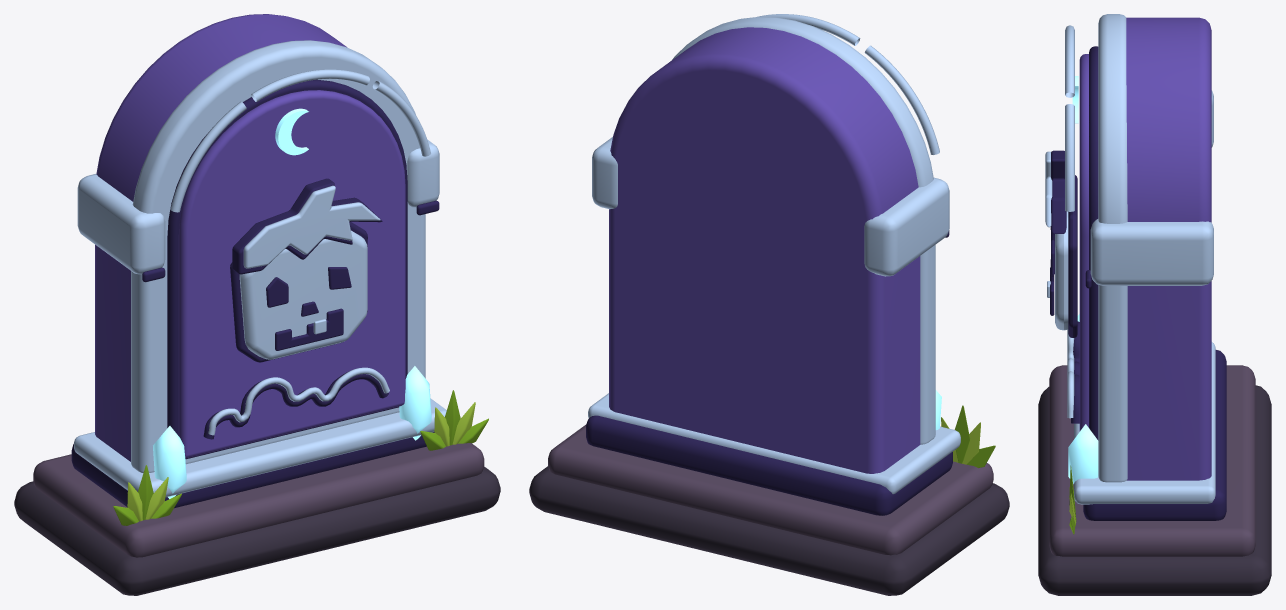
File: Grave_Lunar.glb
The picture shows the model from 3 angles, left to right: view 1: azimuth 30°, elevation 25°; view 2: azimuth 150°, elevation 25°; view 3: azimuth 270°, elevation 25°; orthographic projection.
Visible parts, largest first — view 1: Headstone / inset front panel.004, Headstone / raised outer border.004, Base / lower basalt.004, Headstone / solid arched body.004, Base / bevelled upper step.004, Emblem / raised zombie face.004, Foot / highlight lip.004, Shoulder / sculpted side block.008, Headstone / recessed outline.004, Emblem / hair highlight.004, Foot / broad material shoe.004, Emblem / messy hair silhouette.004 (+11 smaller); view 2: Headstone / solid arched body.004, Base / lower basalt.004, Base / bevelled upper step.004, Foot / broad material shoe.004, Headstone / raised outer border.004, Shoulder / sculpted side block.008, Foot / highlight lip.004, Shoulder / sculpted side block.009, Crown / curved raised band.014, Crown / curved raised band.013; view 3: Headstone / solid arched body.004, Base / bevelled upper step.004, Base / lower basalt.004, Headstone / raised outer border.004, Shoulder / sculpted side block.009, Foot / broad material shoe.004, Foot / highlight lip.004, Headstone / inset front panel.004, Headstone / recessed outline.004, Emblem / raised zombie face.004, Lunar / crystal.001, Emblem / dark carved silhouette.004 (+6 smaller).
Boxes of the visible parts, <box> form: Headstone / inset front panel.004: <box>178,90,405,458</box>; Headstone / raised outer border.004: <box>131,40,425,472</box>; Base / lower basalt.004: <box>14,466,500,595</box>; Headstone / solid arched body.004: <box>95,14,346,461</box>; Base / bevelled upper step.004: <box>33,443,484,557</box>; Emblem / raised zombie face.004: <box>239,230,367,359</box>; Foot / highlight lip.004: <box>74,398,446,497</box>; Shoulder / sculpted side block.008: <box>77,174,165,274</box>; Headstone / recessed outline.004: <box>167,79,407,459</box>; Emblem / hair highlight.004: <box>243,185,380,268</box>; Foot / broad material shoe.004: <box>71,432,434,508</box>; Emblem / messy hair silhouette.004: <box>232,178,382,274</box>; Headstone / solid arched body.004: <box>609,27,920,473</box>; Base / lower basalt.004: <box>529,466,1009,595</box>; Base / bevelled upper step.004: <box>548,424,993,555</box>; Foot / broad material shoe.004: <box>586,415,952,515</box>; Headstone / raised outer border.004: <box>672,16,935,444</box>; Shoulder / sculpted side block.008: <box>864,177,949,276</box>; Foot / highlight lip.004: <box>588,393,960,494</box>; Shoulder / sculpted side block.009: <box>592,137,617,209</box>; Crown / curved raised band.014: <box>864,45,939,154</box>; Crown / curved raised band.013: <box>757,14,860,45</box>; Headstone / solid arched body.004: <box>1126,17,1211,480</box>; Base / bevelled upper step.004: <box>1049,365,1255,556</box>; Base / lower basalt.004: <box>1038,385,1271,595</box>; Headstone / raised outer border.004: <box>1098,14,1127,482</box>; Shoulder / sculpted side block.009: <box>1090,219,1213,285</box>; Foot / broad material shoe.004: <box>1083,350,1226,520</box>; Foot / highlight lip.004: <box>1074,342,1215,504</box>; Headstone / inset front panel.004: <box>1079,54,1088,431</box>; Headstone / recessed outline.004: <box>1089,46,1098,440</box>; Emblem / raised zombie face.004: <box>1055,211,1068,330</box>; Lunar / crystal.001: <box>1068,424,1098,483</box>; Emblem / dark carved silhouette.004: <box>1068,175,1077,337</box>.
Size of the model in its own units: 2.6 by 3.14 by 1.38.
